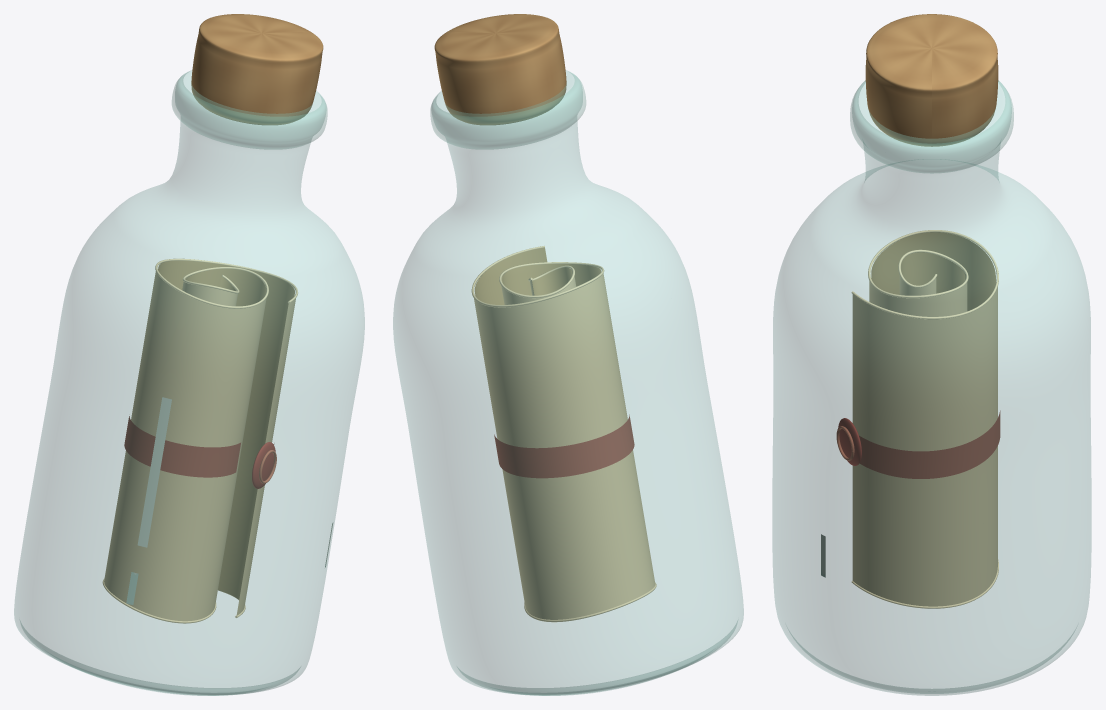
File: Message_Bottle.glb
3 renders of one model, left to right at view 1: azimuth 30°, elevation 25°; view 2: azimuth 150°, elevation 25°; view 3: azimuth 270°, elevation 25°, orthographic. The views are drawn at different scales.
Parts seen in each view (by area): view 1: Message_Bottle; view 2: Message_Bottle; view 3: Message_Bottle.
Part boxes in pixels (x1=…): Message_Bottle: x1=14, y1=14, x2=364, y2=695; Message_Bottle: x1=393, y1=14, x2=743, y2=695; Message_Bottle: x1=772, y1=14, x2=1091, y2=695.
Bounding box in the file's own units: 0.7412 × 1.42 × 0.6306.
